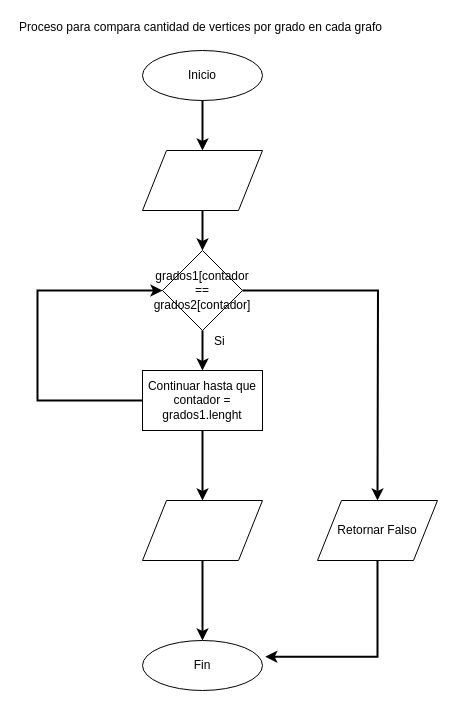
This 455x708 diagram has some shape labels left out. Each missing label, with the centre of its shape:
"int[ ] grados1 int[ ] grados2 contador" belongs at (202,180).
"Retornar Verdadero" belongs at (202,530).
